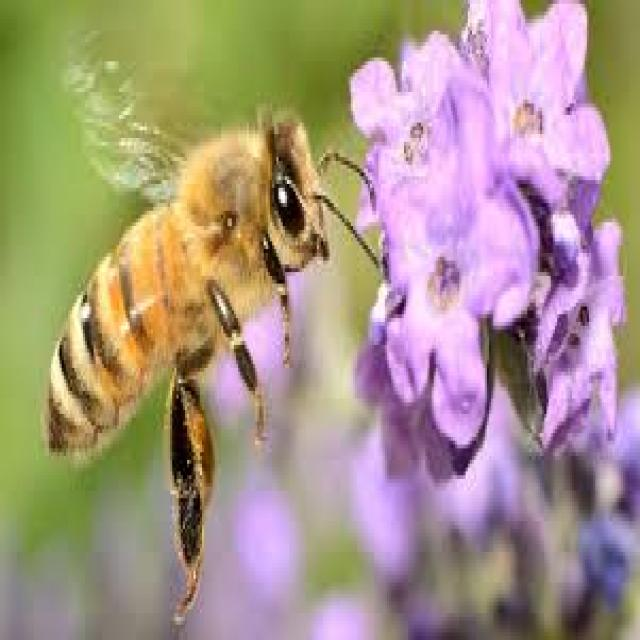Bees: (44, 46, 382, 624)
